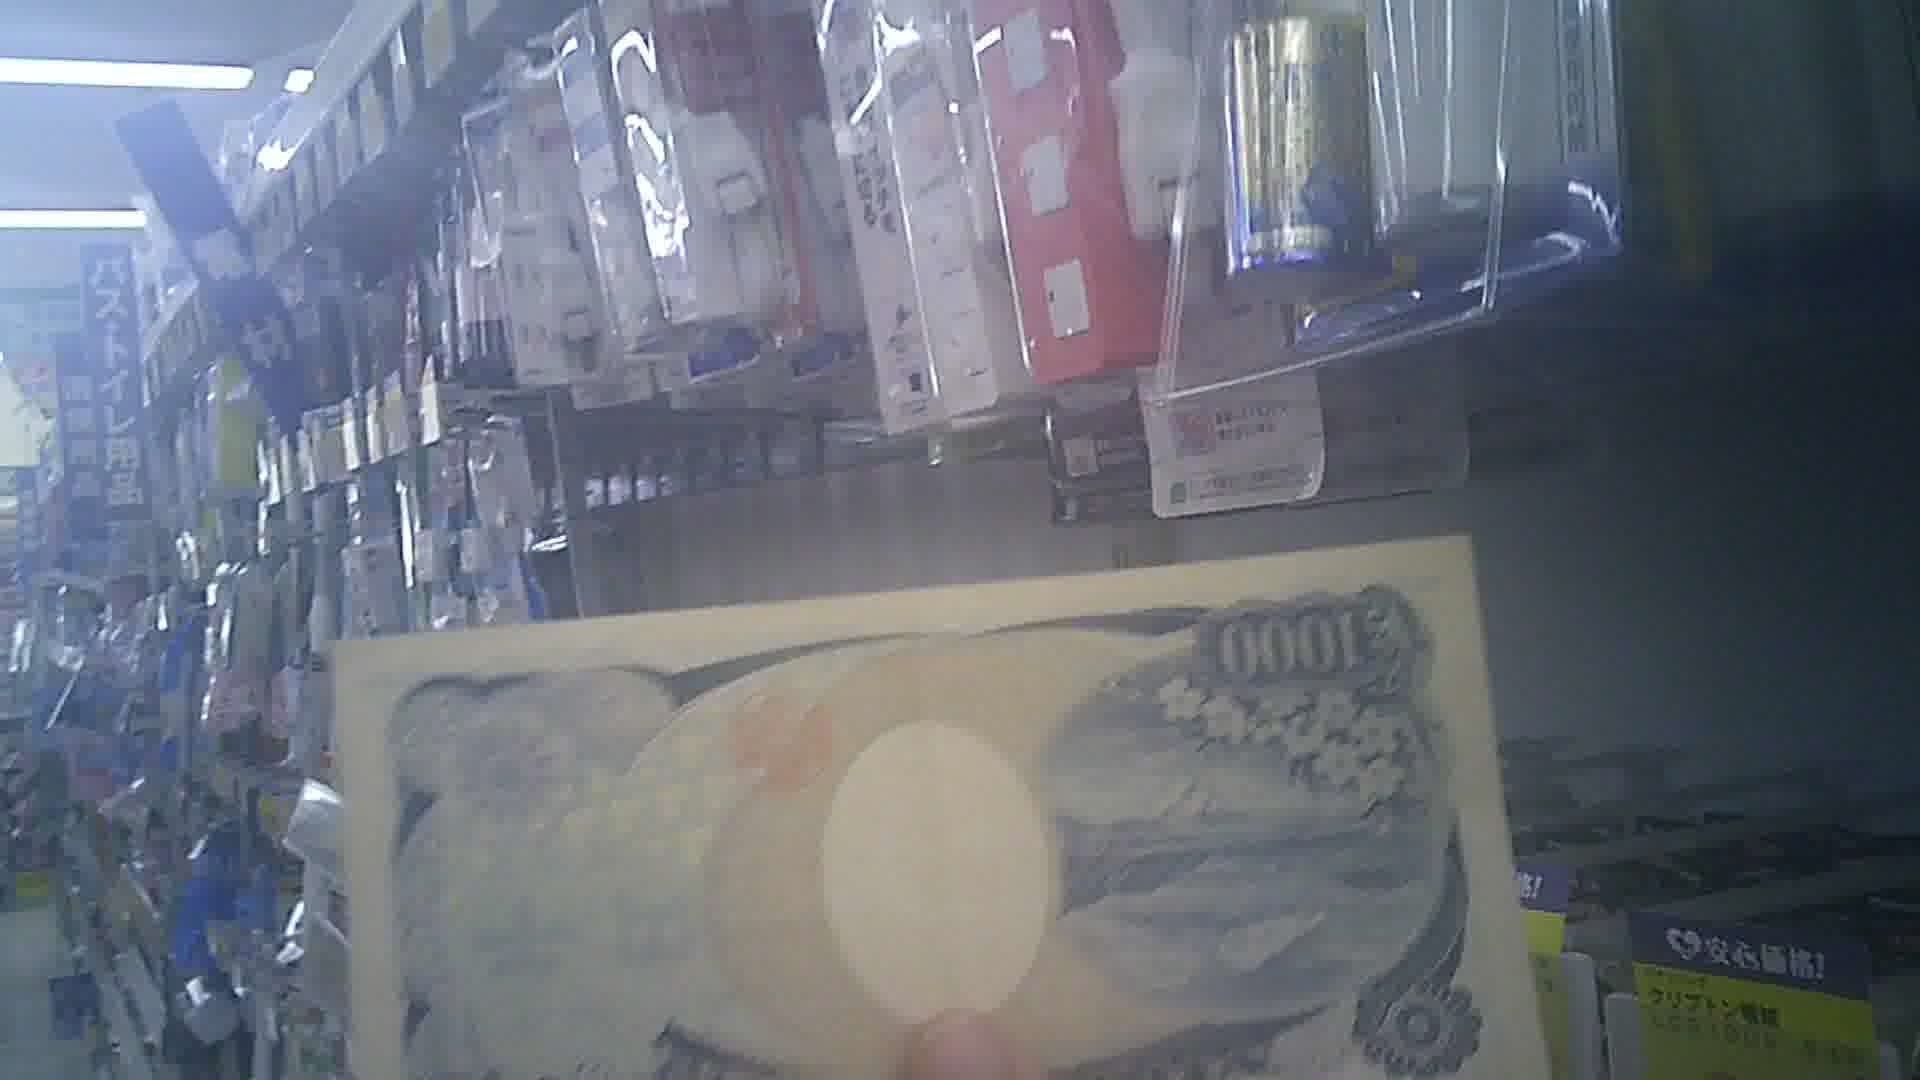1,000 Yen: (338, 535, 1556, 1069)
